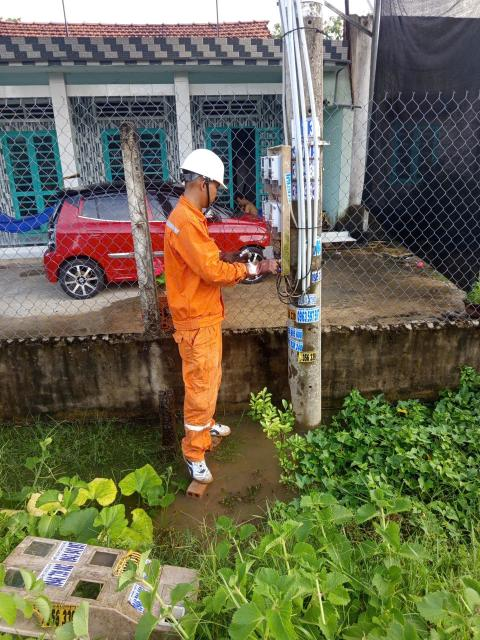gloves: (234, 258, 290, 282), (210, 243, 253, 266)
helmet: (171, 138, 237, 199)
shoes: (174, 451, 215, 488), (186, 416, 232, 441)
